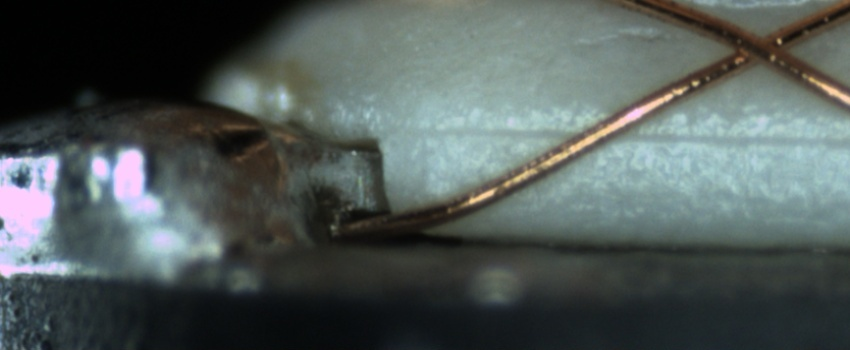CL: (711, 13, 804, 77)
DL: (416, 104, 850, 169)
